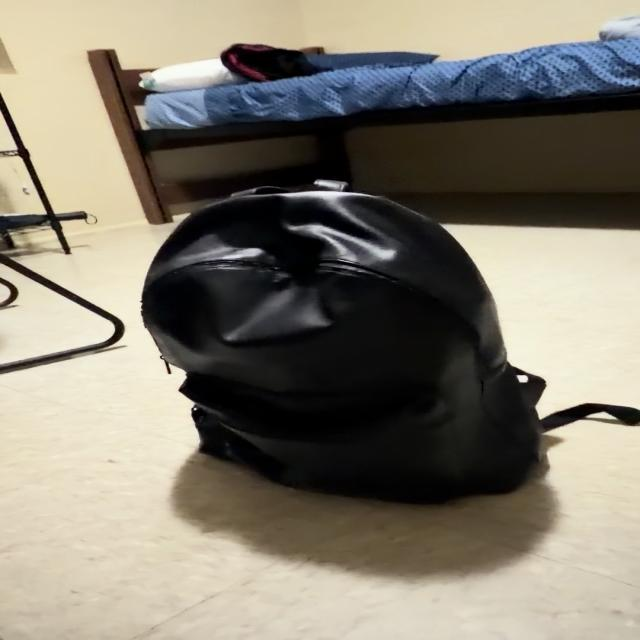backpack: (142, 188, 640, 502), (324, 183, 341, 189)
